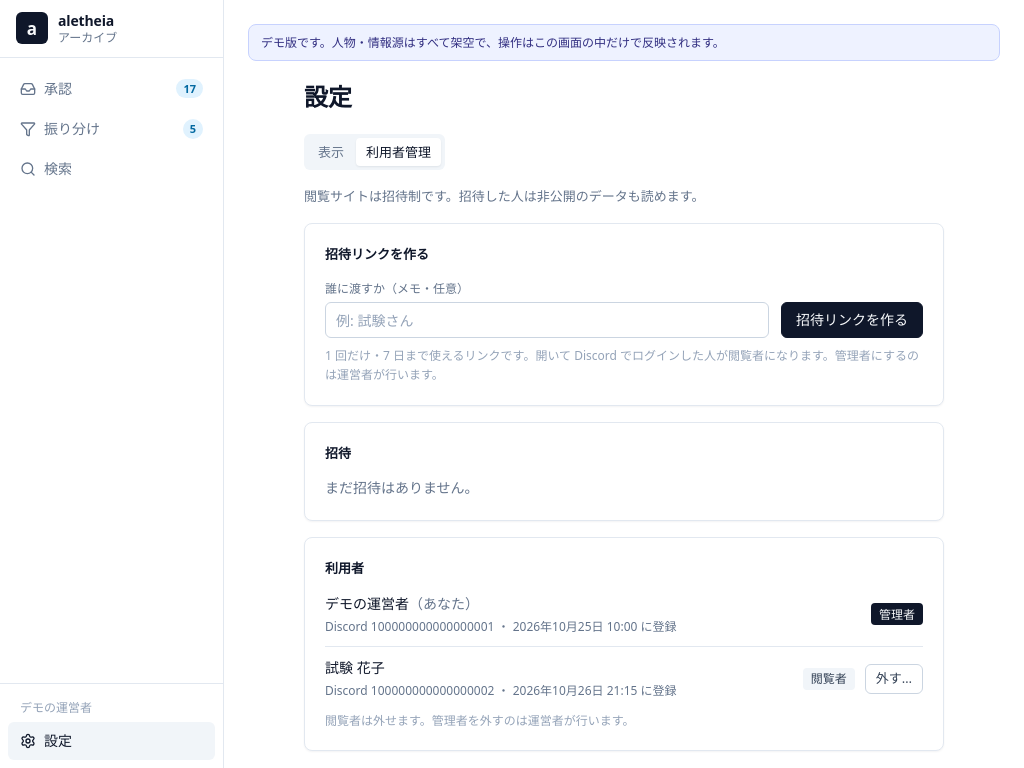
Test: 利用者 › 閲覧者は確かめてから外せる。管理者と自分には外すボタンが無い
Expected: the text "（あなた）" is shown, x1=409 y1=594 x2=479 y2=612
Click the button "外す…" at (894, 679), box x1=865 y1=664 x2=923 y2=694
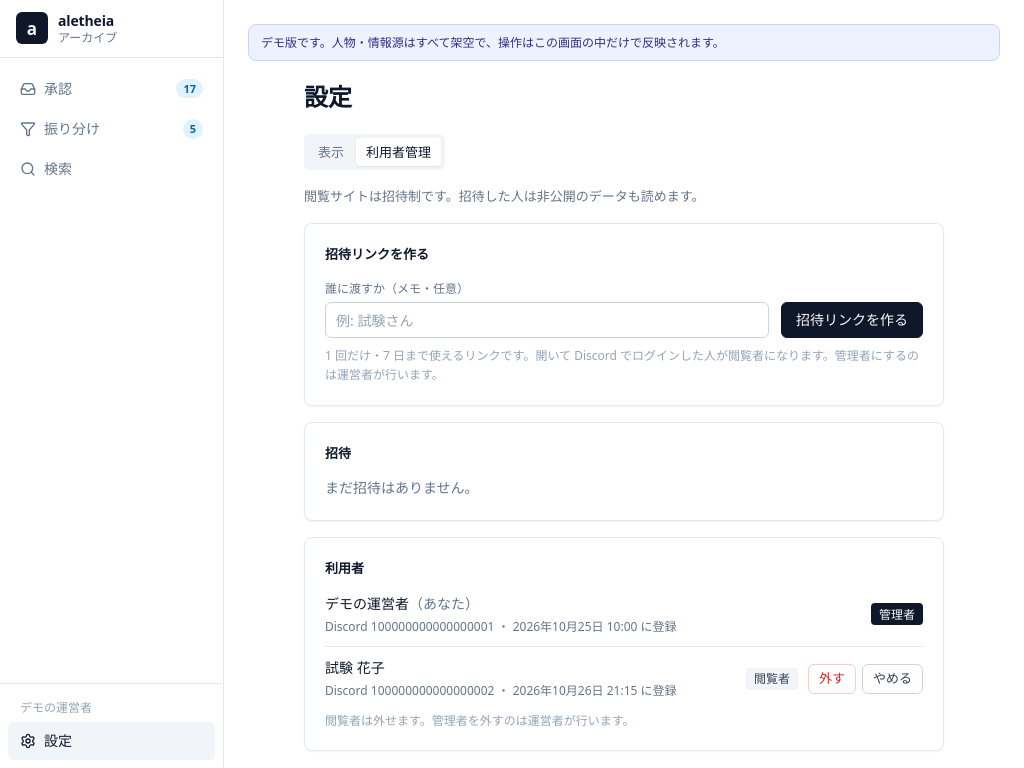
Click the button "外す" at (832, 679), box x1=808 y1=664 x2=856 y2=694
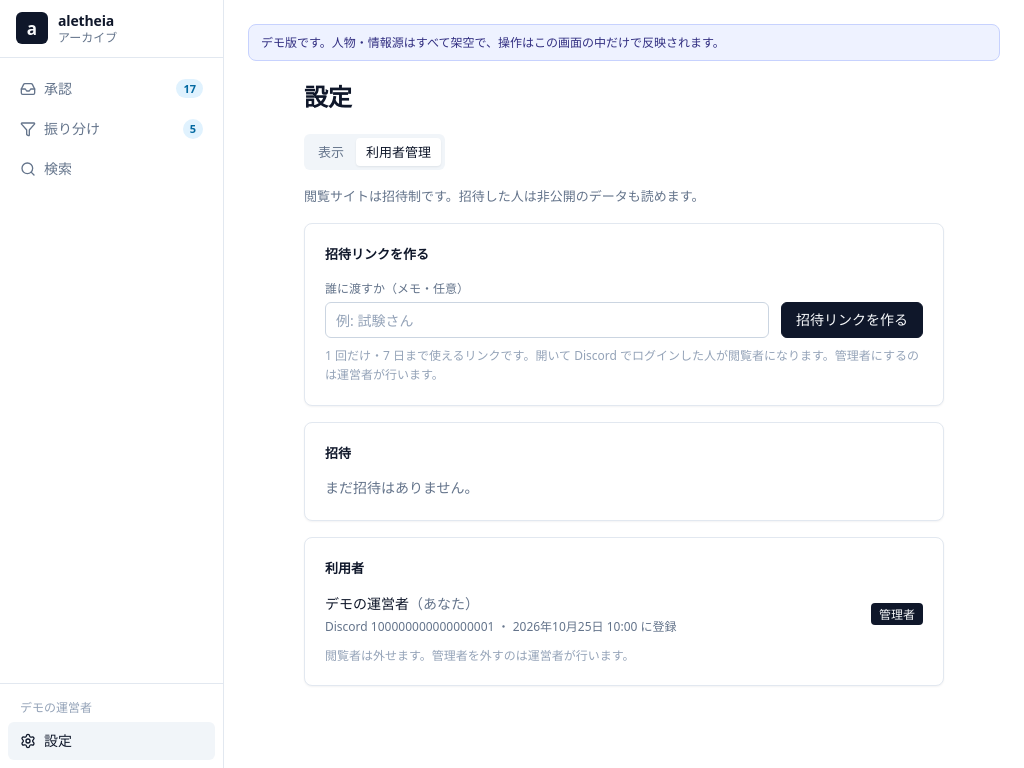
Expected: the number of list items is 1, x1=325 y1=592 x2=923 y2=646
